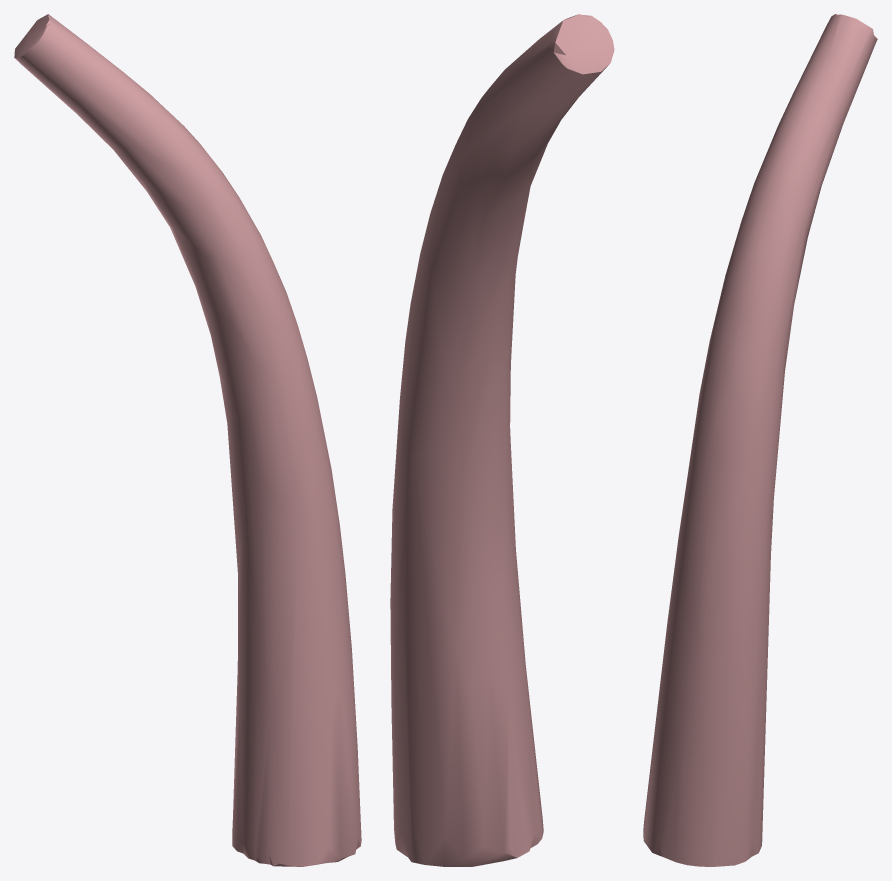
The model's file is fma68211_fj6551.glb.
The picture shows the model from 3 angles, left to right: view 1: azimuth 30°, elevation 25°; view 2: azimuth 150°, elevation 25°; view 3: azimuth 270°, elevation 25°; orthographic projection. The views are drawn at different scales.
Visible parts, largest first — view 1: FMA68211_FJ6551; view 2: FMA68211_FJ6551; view 3: FMA68211_FJ6551.
Boxes of the visible parts, bbox=[...] form: FMA68211_FJ6551: bbox=[14, 14, 361, 866]; FMA68211_FJ6551: bbox=[390, 14, 614, 866]; FMA68211_FJ6551: bbox=[643, 14, 877, 866].
Bounding box in the file's own units: 0.00796 × 0.0241 × 0.00679.
